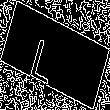L_N: (38, 26, 72, 84)
